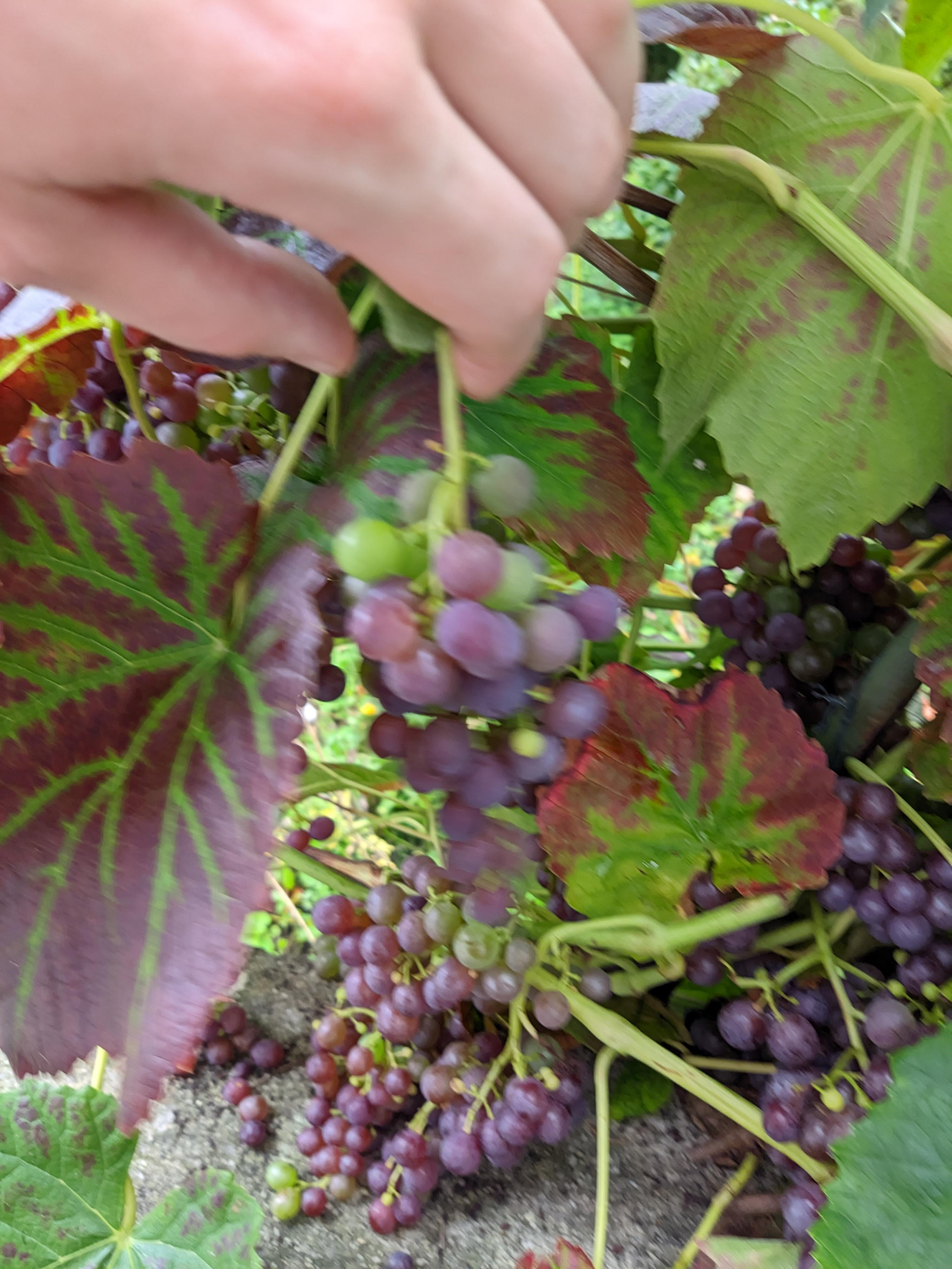Grape Unripe: (331, 443, 606, 901), (704, 765, 952, 1245), (315, 873, 606, 1228), (693, 482, 920, 712), (48, 329, 304, 491)
